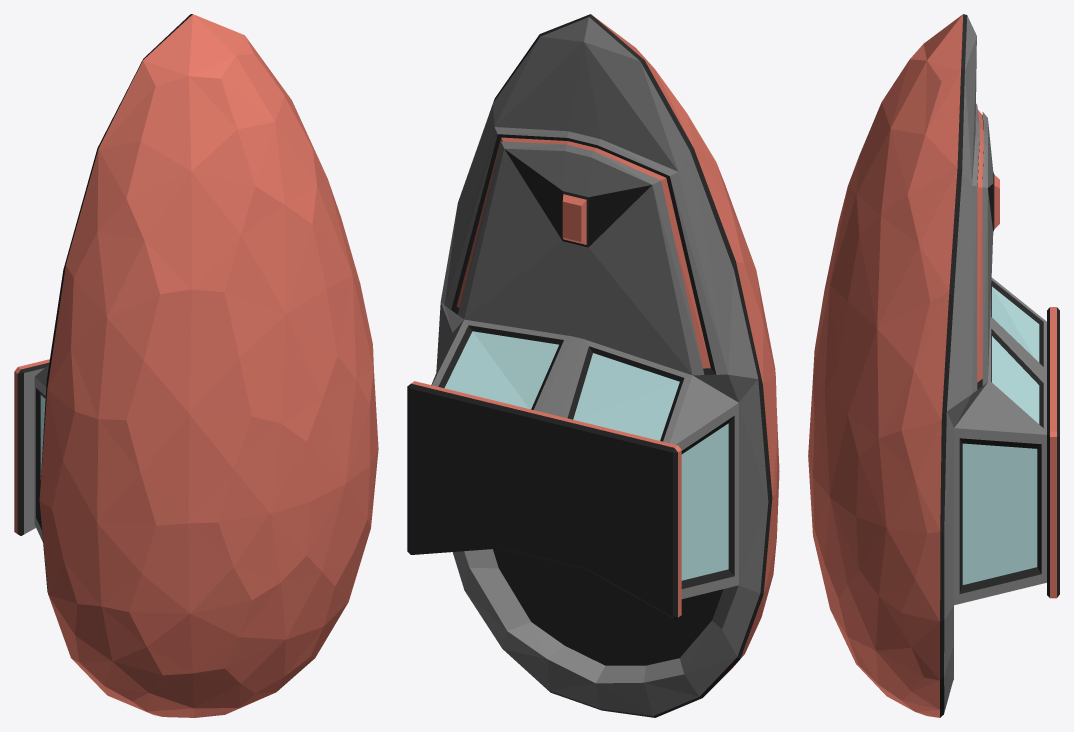
The model's file is boat.fbx.
The picture shows the model from 3 angles, left to right: view 1: azimuth 30°, elevation 25°; view 2: azimuth 150°, elevation 25°; view 3: azimuth 270°, elevation 25°; orthographic projection. The views are drawn at different scales.
Parts seen in each view (by area): view 1: Icosphere.002; view 2: Icosphere.002; view 3: Icosphere.002.
Boxes of the visible parts, bbox=[...] form: Icosphere.002: bbox=[14, 14, 378, 717]; Icosphere.002: bbox=[407, 14, 779, 717]; Icosphere.002: bbox=[808, 14, 1059, 717].
Size of the model in its own units: 200 by 397 by 132.
